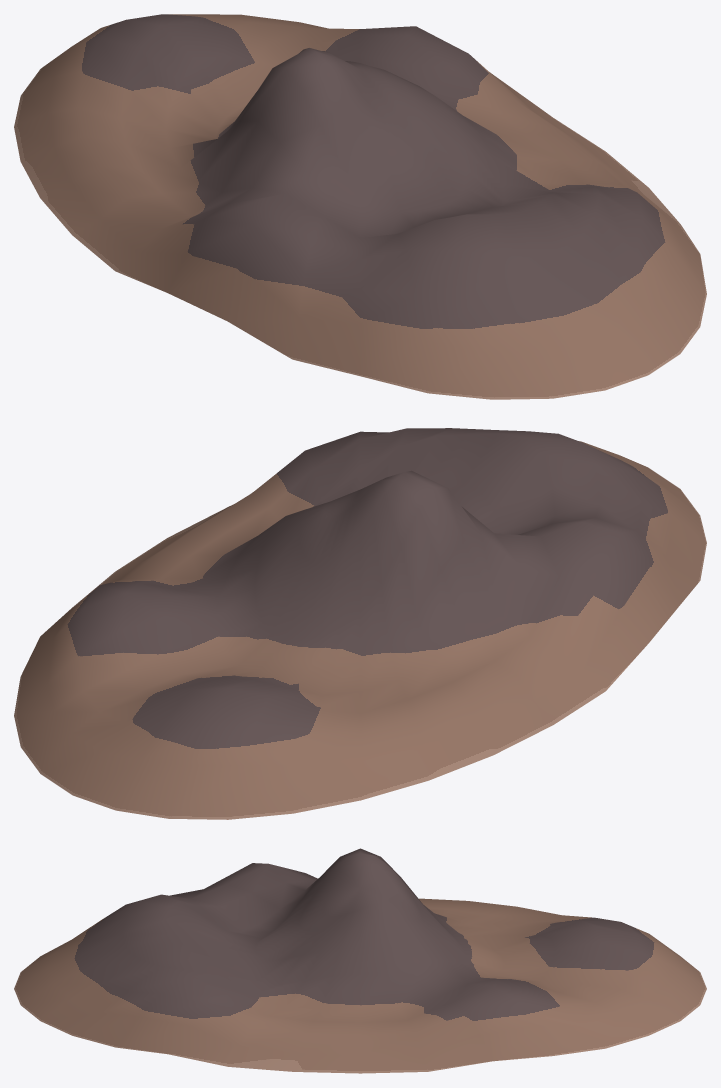
Rendered from tierra.fbx.
The picture shows the model from 3 angles, top to bottom: view 1: azimuth 30°, elevation 25°; view 2: azimuth 150°, elevation 25°; view 3: azimuth 270°, elevation 25°; orthographic projection. The views are drawn at different scales.
Visible parts, largest first — view 1: tierra; view 2: tierra; view 3: tierra.
Part boxes in pixels (left/top/right/bottom): tierra: left=14, top=14, right=706, bottom=399; tierra: left=14, top=428, right=706, bottom=819; tierra: left=14, top=848, right=706, bottom=1073.
Bounding box in the file's own units: 95.89 × 31.74 × 166.
